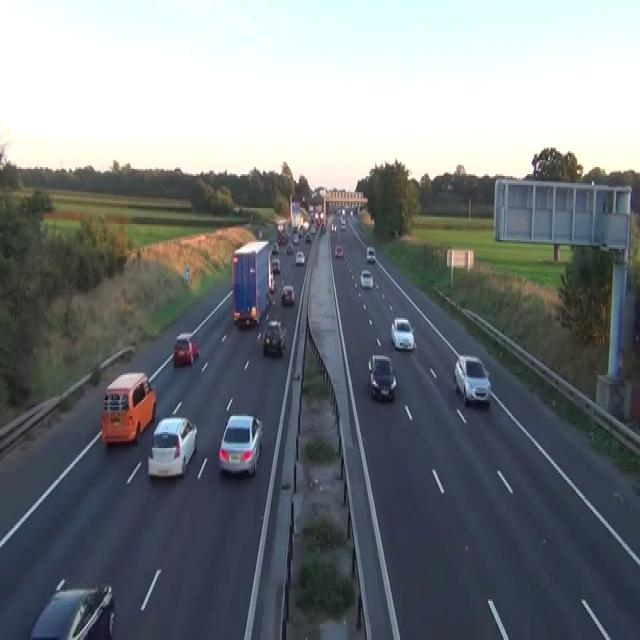Car: (29, 576, 115, 638), (101, 372, 156, 444), (147, 416, 197, 478), (218, 412, 262, 477), (453, 354, 491, 407), (367, 354, 396, 402), (173, 332, 199, 367), (390, 316, 415, 351), (263, 318, 286, 356), (281, 284, 294, 306), (360, 268, 373, 288), (366, 245, 375, 263), (295, 249, 304, 265), (266, 290, 275, 306), (334, 244, 343, 258), (271, 258, 280, 272), (269, 274, 275, 293), (192, 340, 199, 356), (285, 242, 293, 254), (278, 233, 287, 243), (292, 233, 299, 243), (446, 182, 454, 190), (233, 204, 240, 213), (309, 224, 316, 233), (272, 242, 278, 252), (305, 233, 311, 242), (340, 220, 345, 230), (319, 210, 324, 220), (331, 222, 336, 231), (441, 183, 446, 190), (349, 208, 353, 215)
Truck: (231, 240, 271, 327), (268, 251, 275, 293), (290, 199, 300, 228), (276, 218, 287, 244)
